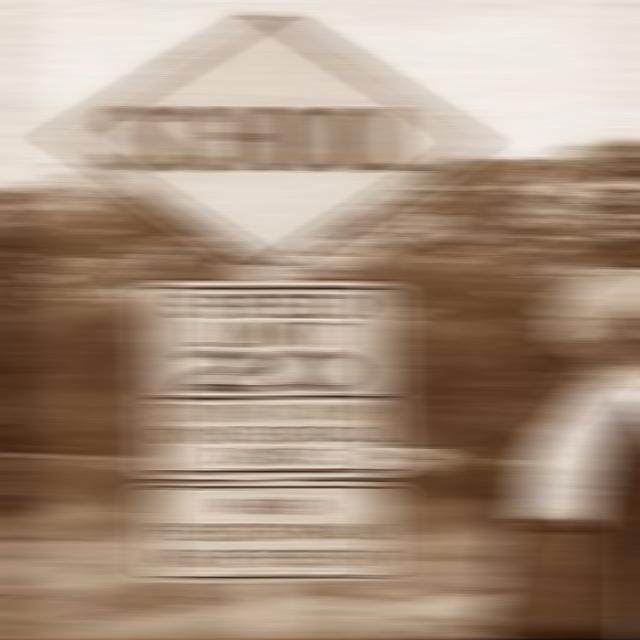speedLimit20: (141, 277, 407, 403)
